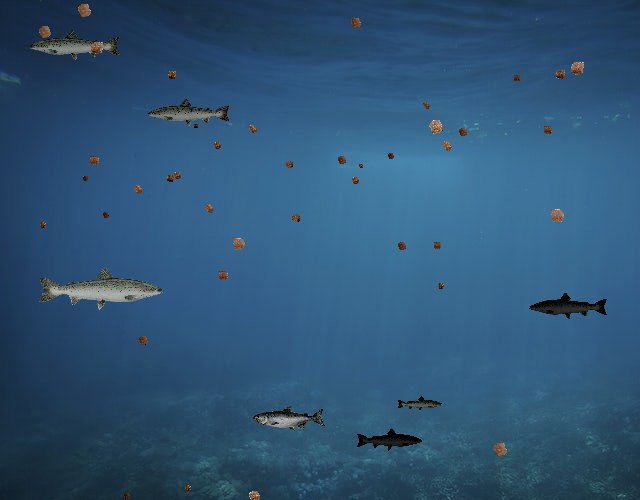Fish: (36, 265, 165, 311), (29, 29, 123, 63), (146, 97, 232, 128), (528, 292, 609, 321), (253, 406, 326, 432), (355, 428, 423, 452), (396, 395, 443, 412)
Pellet: (563, 55, 591, 83), (242, 484, 267, 500), (453, 123, 472, 142), (347, 173, 364, 190), (180, 481, 195, 496), (433, 279, 448, 293), (36, 218, 50, 232), (120, 489, 134, 500)
